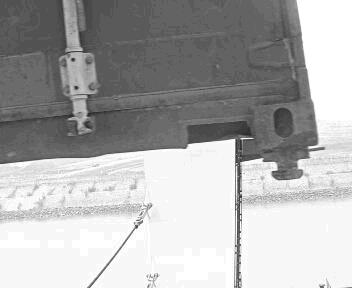twist_lock_1: (207, 30, 266, 76)
